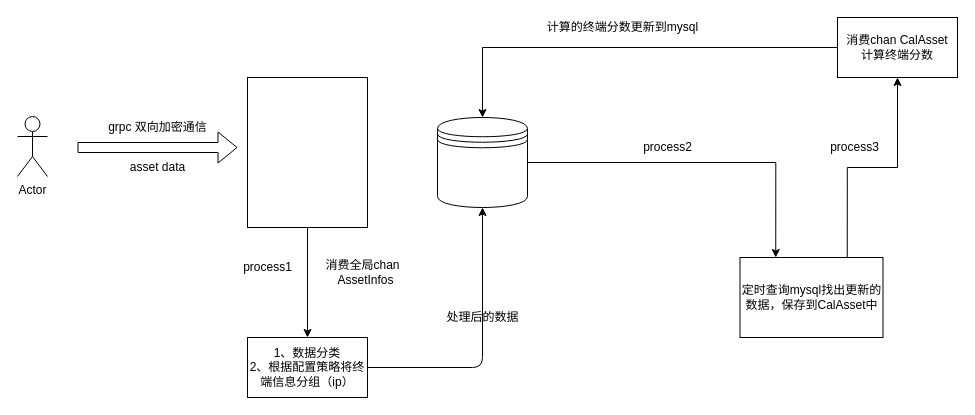
This 975x415 diagram has some shape labels left out. Each missing label, with the centre of its shape:
"mysql" belongs at (482,162).
"server 接收client上传的数据保存到全局 chan AssetInfos中" belongs at (307,152).
